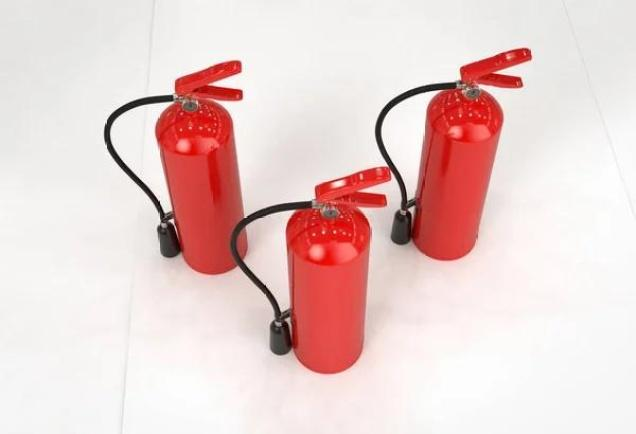APAR: (409, 46, 533, 259), (285, 165, 391, 374), (155, 60, 248, 274)
